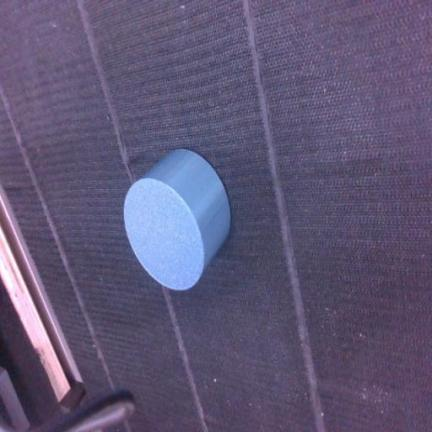cylinder: (125, 150, 230, 290)
